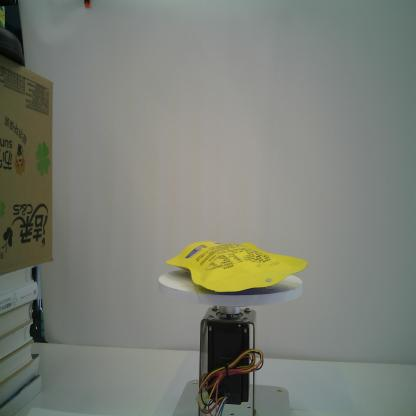Dried Fruit: (164, 240, 310, 297)
